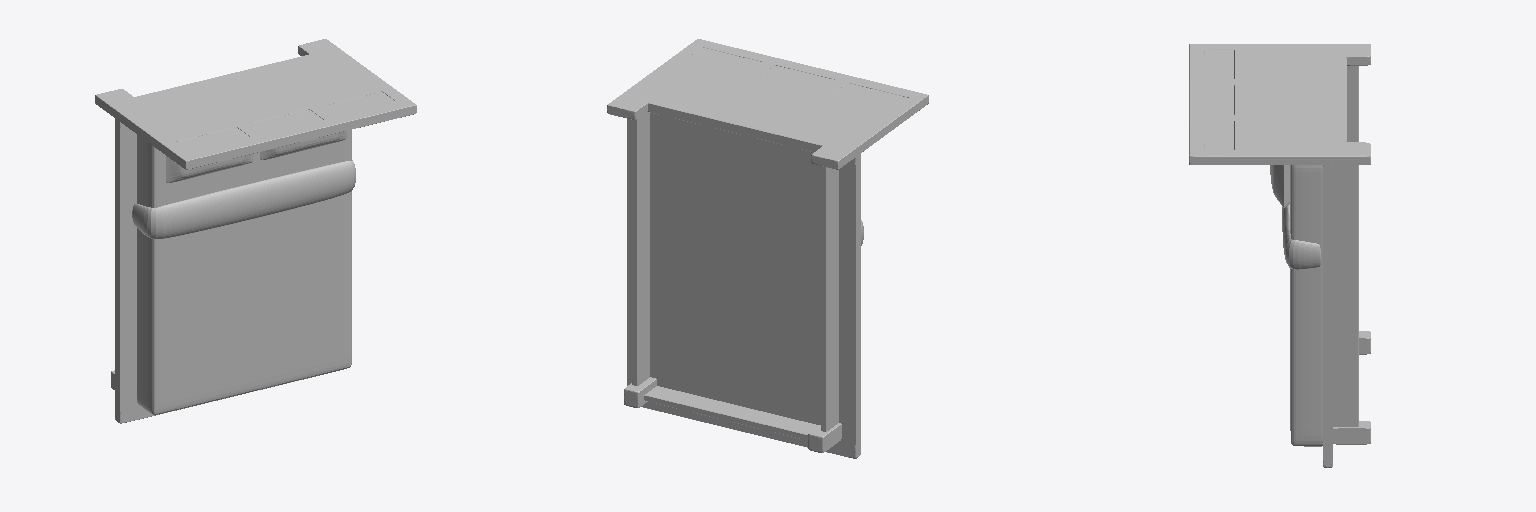
Rendered from 10236_Master_Bed_King_Size_v1_L3b.obj.
3 renders of one model, left to right at view 1: azimuth 30°, elevation 25°; view 2: azimuth 150°, elevation 25°; view 3: azimuth 270°, elevation 25°, orthographic.
Parts seen in each view (by area): view 1: 10236_Master_Bed_King_Size_v1; view 2: 10236_Master_Bed_King_Size_v1; view 3: 10236_Master_Bed_King_Size_v1.
Boxes of the visible parts, x1,y1,x2,y2 form: 10236_Master_Bed_King_Size_v1: [95, 39, 416, 423]; 10236_Master_Bed_King_Size_v1: [607, 39, 928, 458]; 10236_Master_Bed_King_Size_v1: [1189, 44, 1370, 467].
Bounding box in the file's own units: 175 × 226 × 119.